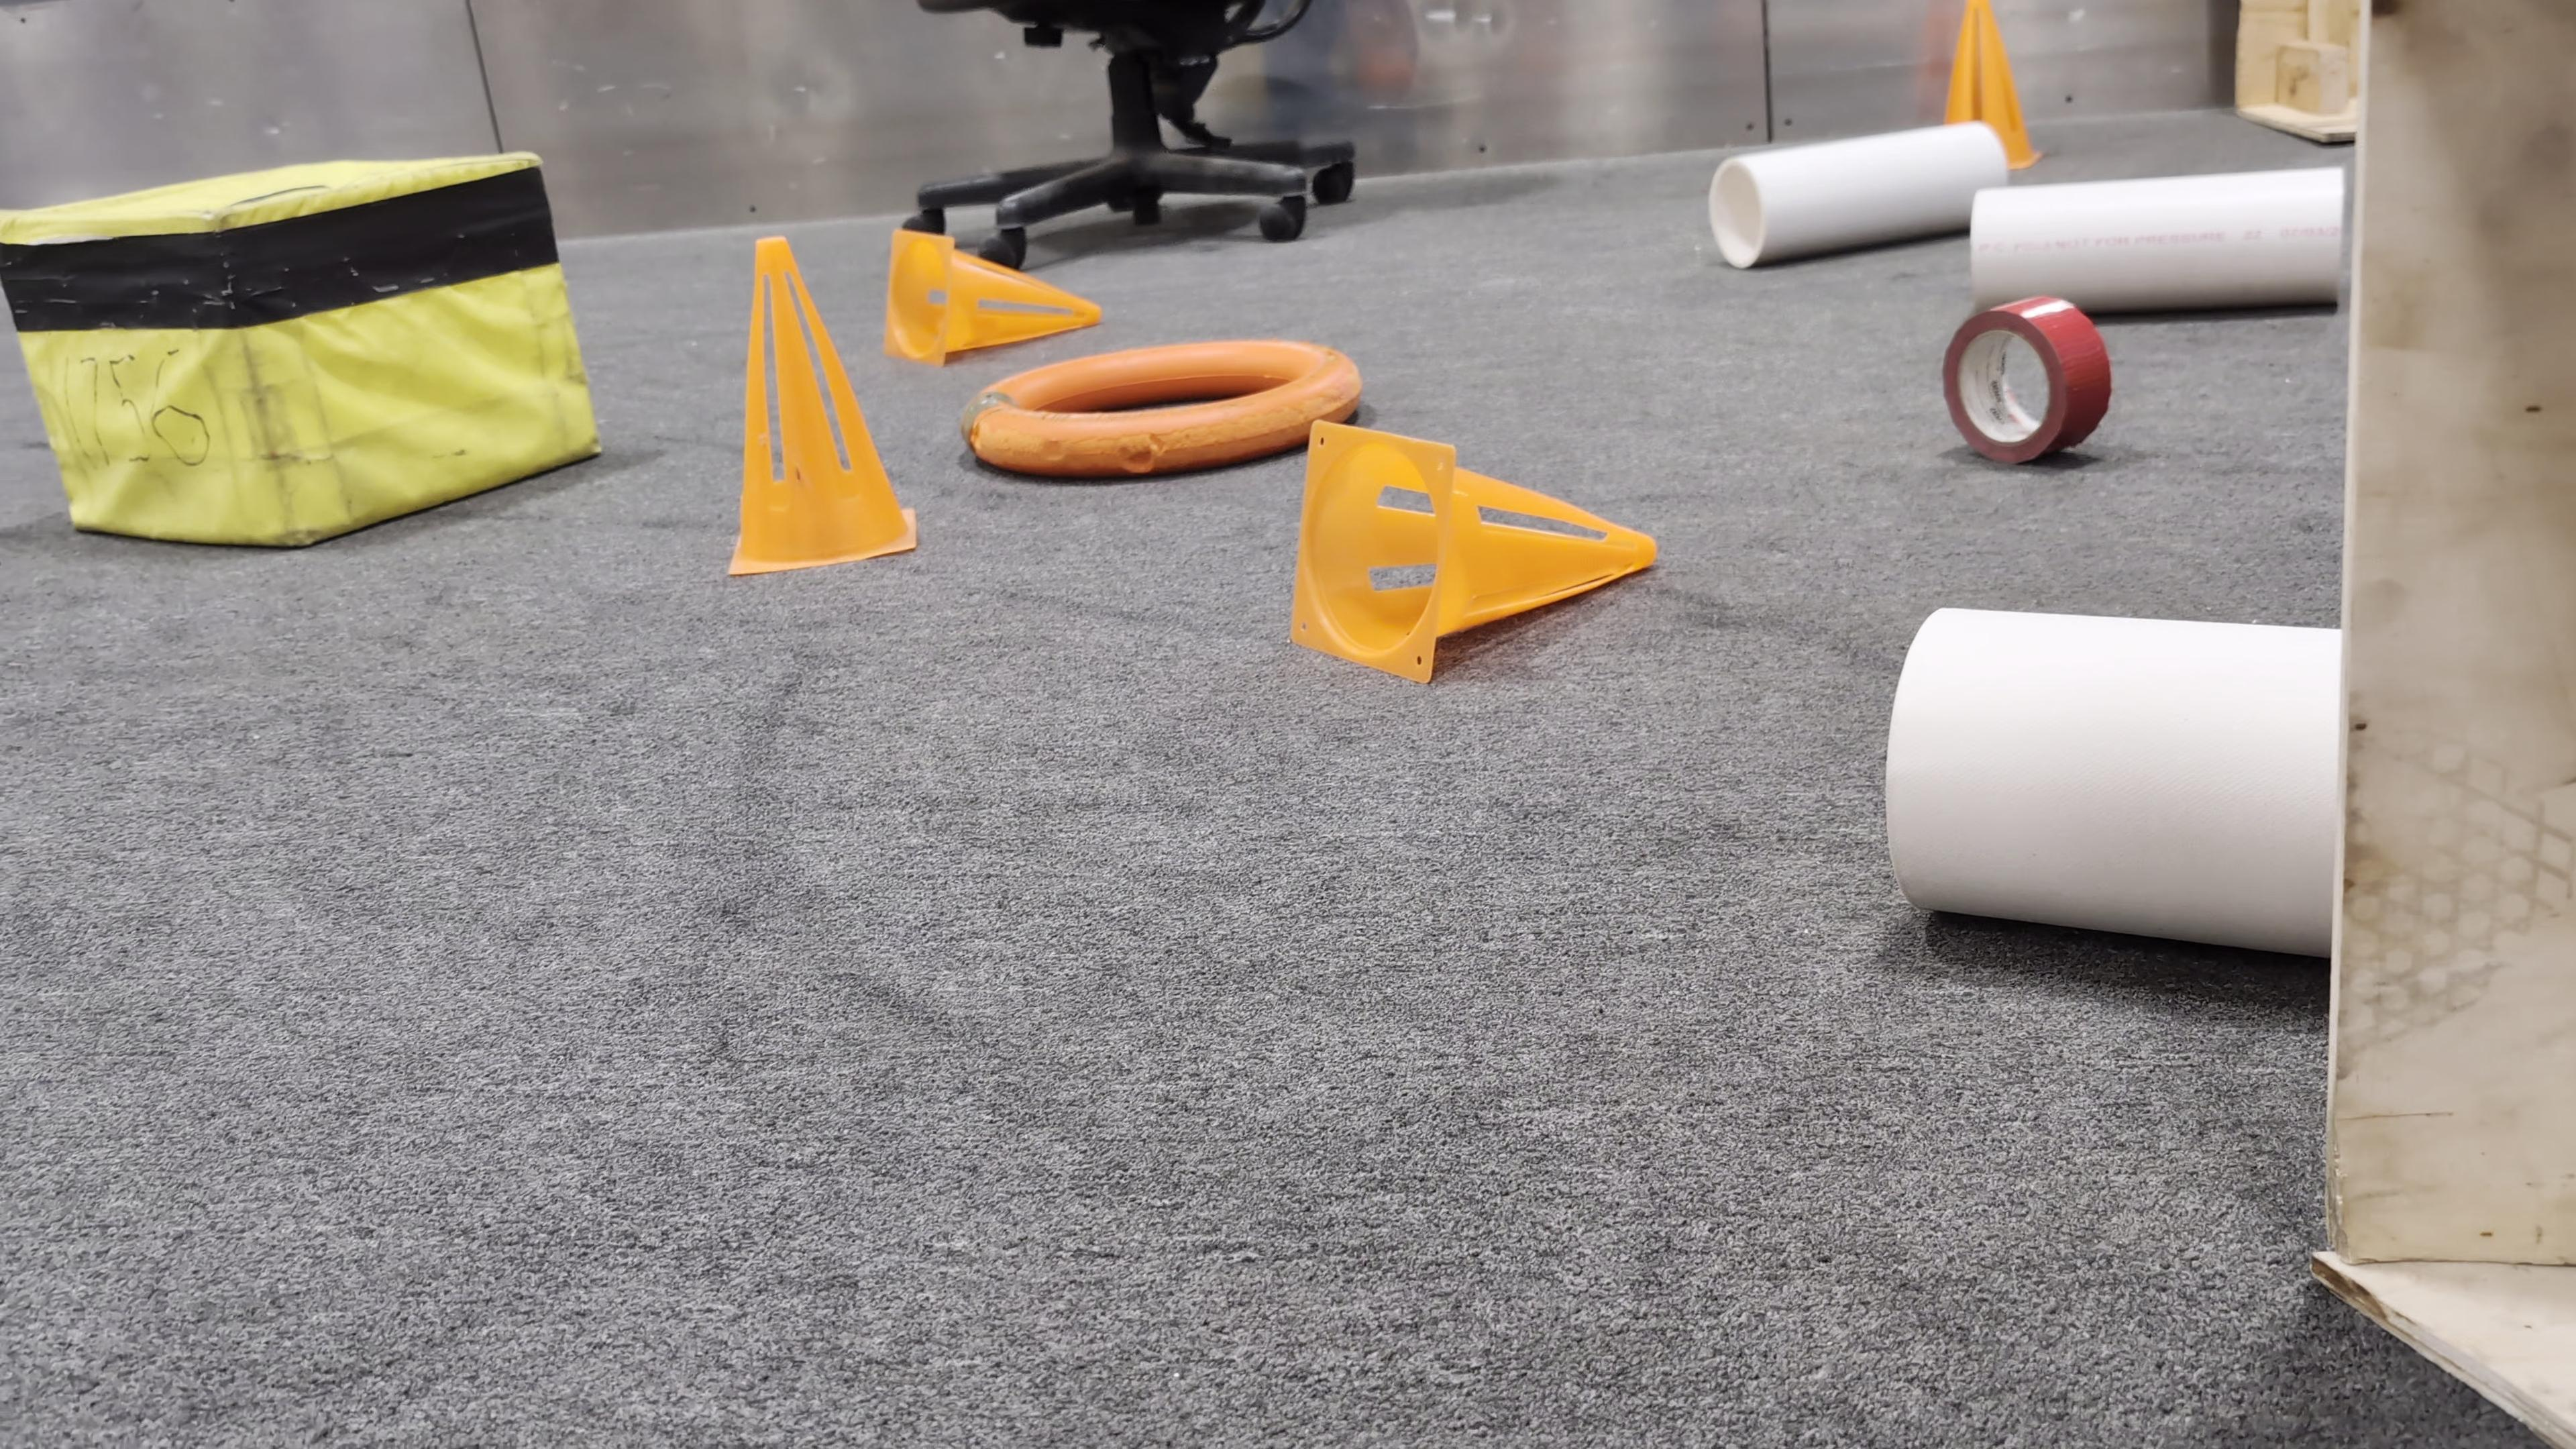coral: (1961, 164, 2351, 315), (1705, 115, 2006, 270)
